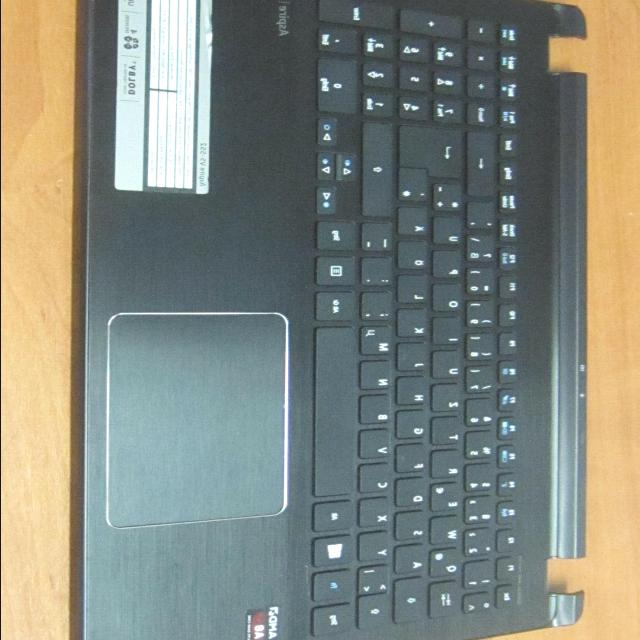0: (467, 269, 496, 297)
1: (464, 562, 495, 592)
2: (465, 530, 495, 559)
3: (466, 498, 496, 527)
4: (466, 465, 496, 495)
5: (467, 433, 496, 461)
6: (467, 400, 496, 428)
7: (467, 368, 497, 396)
8: (467, 335, 496, 363)
9: (467, 302, 495, 330)
a: (396, 547, 428, 577)
accent: (467, 203, 496, 231)
ae: (398, 208, 429, 238)
alt-left: (314, 502, 356, 534)
altgr-right: (317, 293, 358, 323)
b: (360, 396, 393, 427)
c: (359, 464, 393, 496)
caret: (465, 595, 493, 616)
comma: (361, 293, 393, 323)
d: (396, 480, 428, 510)
del: (467, 132, 496, 199)
e: (431, 484, 464, 514)
enter: (400, 127, 463, 178)
f: (396, 445, 428, 475)
g: (397, 412, 429, 442)
h: (397, 378, 429, 408)
hash: (399, 170, 431, 204)
i: (433, 318, 462, 348)
j: (398, 344, 429, 374)
k: (398, 310, 429, 340)
keyboard: (303, 0, 534, 640)
l: (398, 276, 429, 306)
less: (360, 567, 392, 597)
m: (360, 327, 394, 358)
minus: (361, 224, 393, 254)
n: (361, 362, 394, 392)
o: (433, 285, 463, 315)
oe: (398, 242, 429, 272)
p: (433, 251, 463, 281)
plus: (433, 184, 463, 214)
point: (361, 258, 393, 288)
q: (431, 550, 463, 580)
r: (431, 451, 463, 481)
s: (396, 513, 428, 543)
shift-left: (358, 597, 390, 631)
shift-lock: (395, 580, 427, 626)
shift-right: (362, 122, 395, 220)
space: (315, 328, 359, 498)
ss: (467, 237, 496, 265)
strg-left: (313, 606, 354, 640)
strg-right: (316, 221, 358, 253)
t: (432, 418, 464, 448)
tab: (430, 583, 462, 621)
u: (432, 351, 463, 381)
ue: (433, 218, 464, 248)
v: (359, 431, 392, 461)
w: (431, 518, 464, 548)
x: (360, 499, 394, 530)
y: (359, 533, 392, 563)
z: (432, 385, 463, 414)
